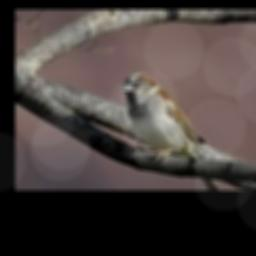Sparrow: (121, 72, 219, 190)
